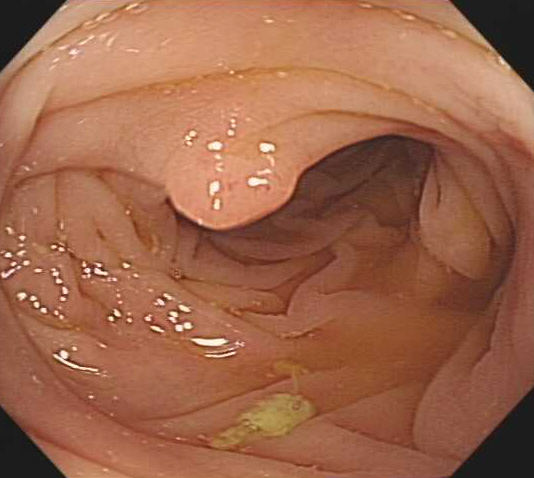adenoma: (157, 135, 296, 233)
